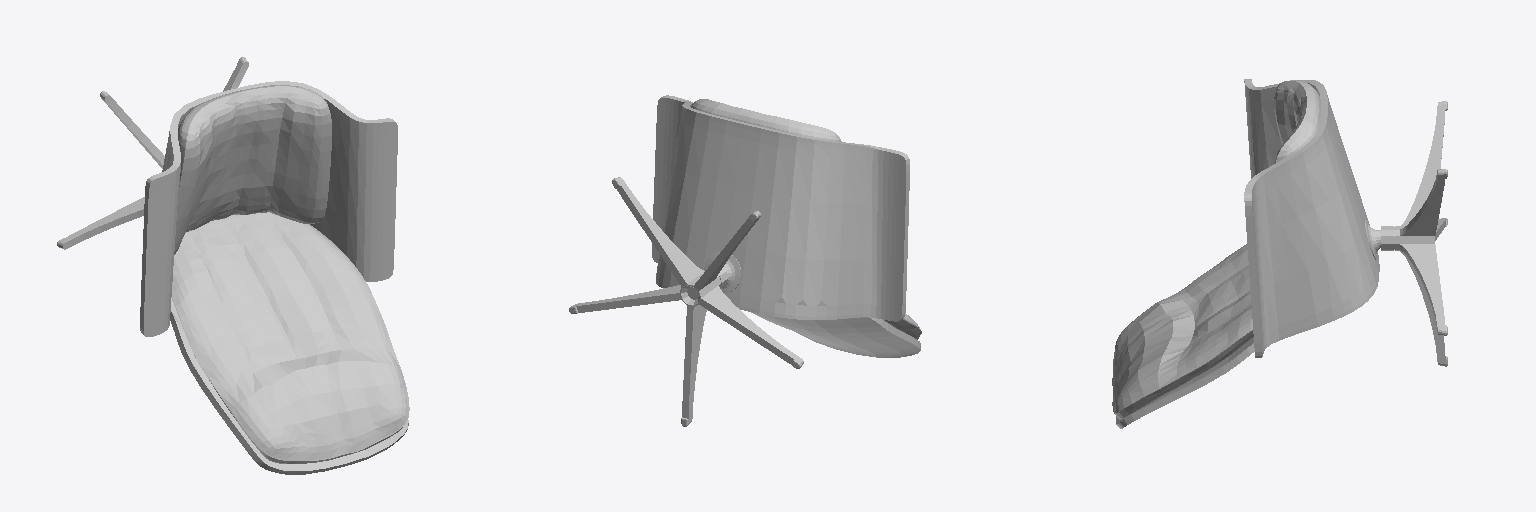
The model's file is mid_century_lounge_chair_4k.obj.
3 views of the same model, side by side, from view 1: azimuth 30°, elevation 25°; view 2: azimuth 150°, elevation 25°; view 3: azimuth 270°, elevation 25° (orthographic).
Visible parts, largest first — view 1: mid_century_lounge_chair; view 2: mid_century_lounge_chair; view 3: mid_century_lounge_chair.
Boxes of the visible parts, <box> form: mid_century_lounge_chair: <box>57,57,409,474</box>; mid_century_lounge_chair: <box>569,95,921,426</box>; mid_century_lounge_chair: <box>1112,79,1447,428</box>.
Size of the model in its own units: 1.01 by 1.19 by 1.17.